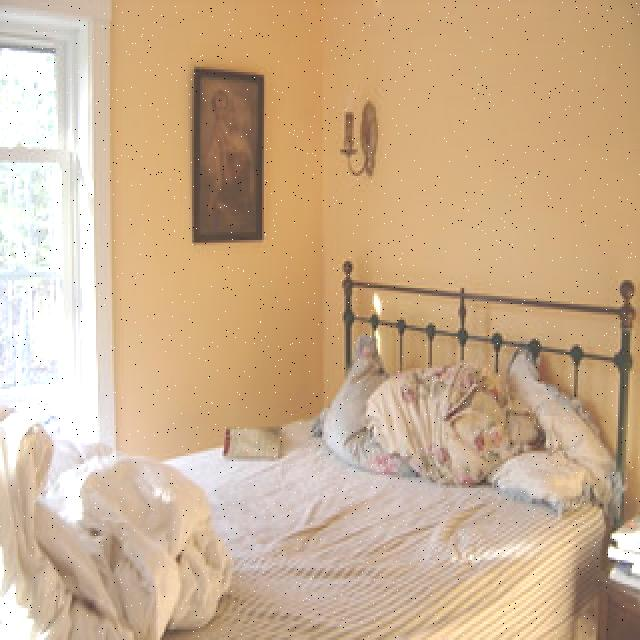bed: (0, 328, 622, 640)
